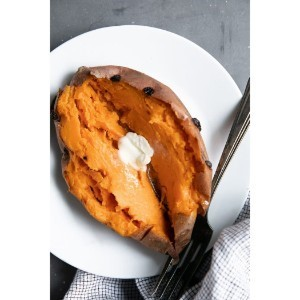sweet potato_brain food: (61, 67, 176, 214)
